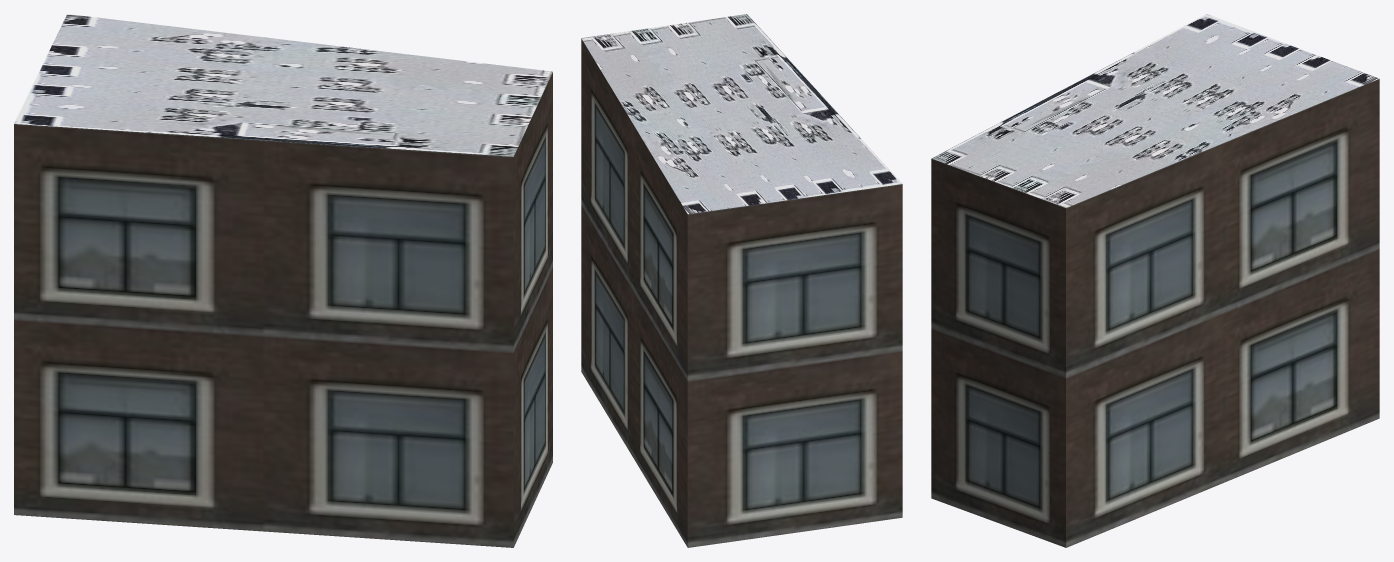
File: ResTex__2196.fbx
3 renders of one model, left to right at view 1: azimuth 30°, elevation 25°; view 2: azimuth 150°, elevation 25°; view 3: azimuth 270°, elevation 25°, orthographic. The views are drawn at different scales.
Parts seen in each view (by area): view 1: CityEngineMaterial_16_m, CityEngineMaterial_15_m; view 2: CityEngineMaterial_16_m, CityEngineMaterial_15_m; view 3: CityEngineMaterial_16_m, CityEngineMaterial_15_m.
Part boxes in pixels (bbox=[...]): CityEngineMaterial_16_m: bbox=[14, 72, 552, 547]; CityEngineMaterial_15_m: bbox=[14, 14, 552, 156]; CityEngineMaterial_16_m: bbox=[581, 39, 902, 547]; CityEngineMaterial_15_m: bbox=[581, 14, 902, 214]; CityEngineMaterial_16_m: bbox=[931, 79, 1379, 547]; CityEngineMaterial_15_m: bbox=[931, 14, 1379, 207].
Bounding box in the file's own units: 7.35 × 6 × 7.18.
2 materials, 2 textured.
